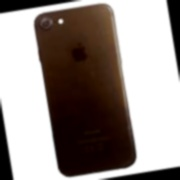iphone: (45, 6, 126, 173)
